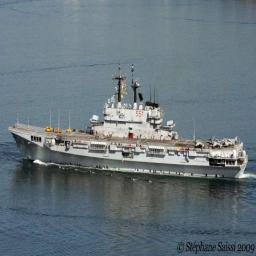Portanaves: (8, 62, 249, 182)
